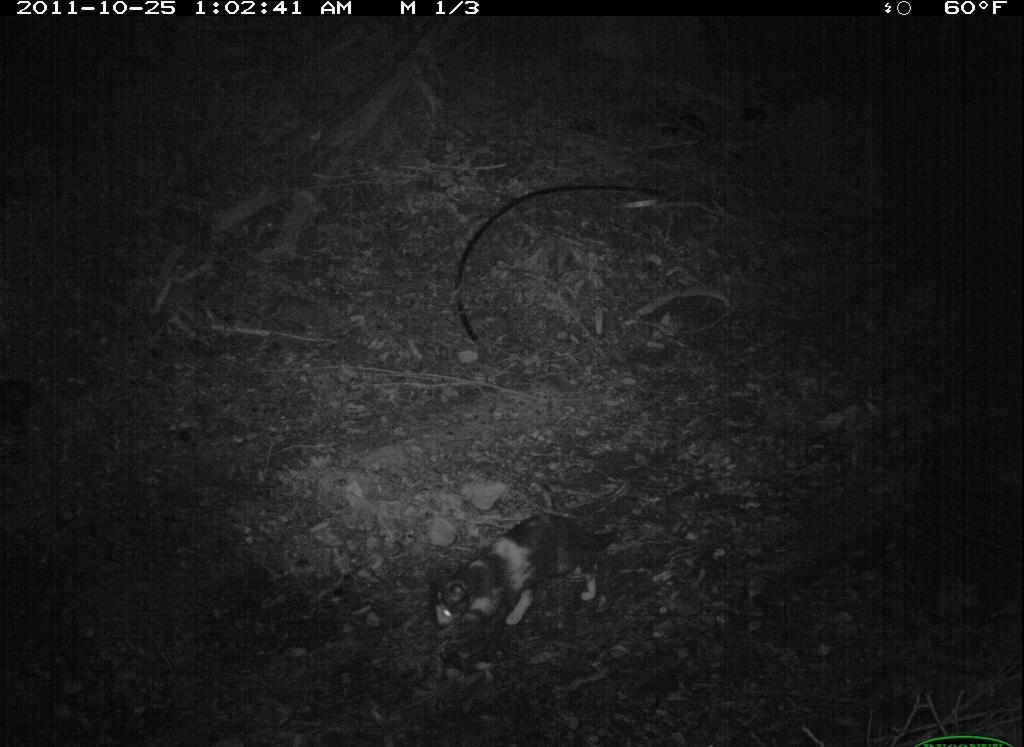cat: (411, 496, 635, 655)
